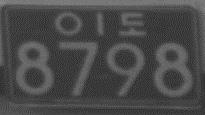0: (53, 10, 82, 36)
1: (90, 10, 112, 36)
7: (58, 41, 99, 97)
8: (152, 41, 193, 98), (14, 40, 55, 94)
9: (105, 41, 146, 97)
도: (118, 11, 146, 36)
